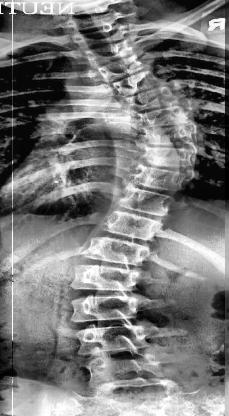Vertebrae: (88, 352, 180, 384), (74, 291, 150, 323), (77, 324, 158, 354), (70, 263, 146, 294), (84, 238, 156, 266), (100, 210, 165, 238), (113, 188, 176, 214), (141, 143, 197, 169), (142, 123, 202, 147), (85, 43, 146, 66), (128, 166, 188, 188), (122, 87, 182, 109), (137, 106, 195, 128), (110, 73, 162, 97), (98, 58, 150, 80), (78, 28, 128, 48)
